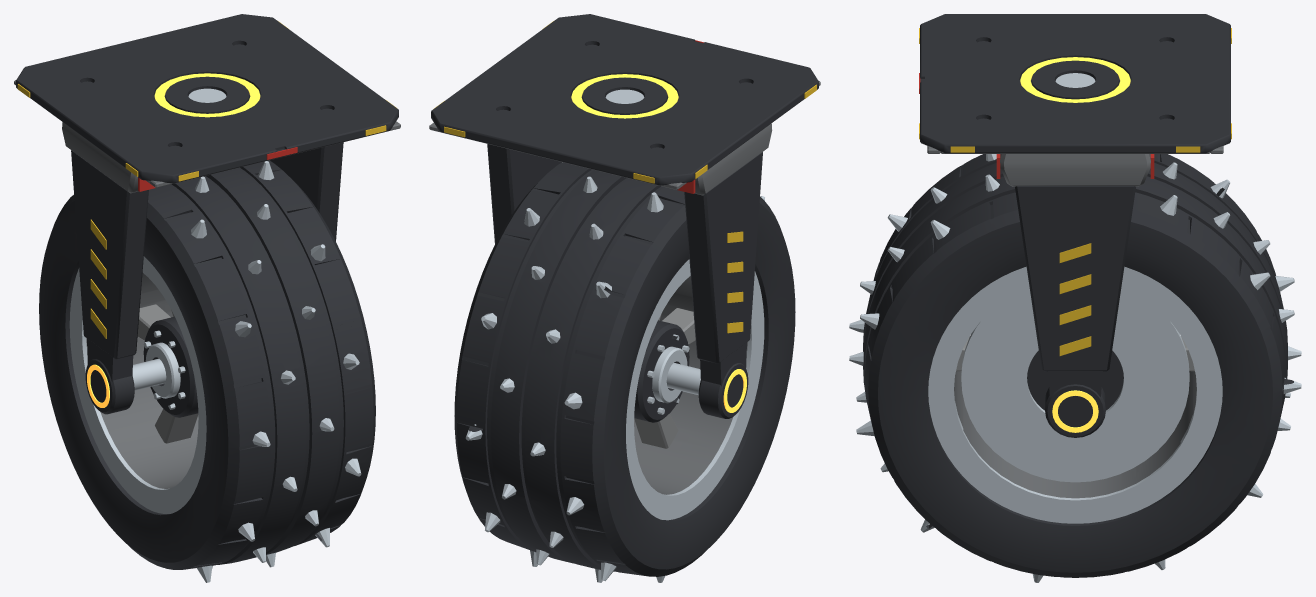
File: R4M_WheelM_Fork_Spiked.glb
3 views of the same model, side by side, from view 1: azimuth 30°, elevation 25°; view 2: azimuth 150°, elevation 25°; view 3: azimuth 270°, elevation 25° (orthographic). The views are drawn at different scales.
Visible parts, largest first — view 1: R4M_WheelM_Fork_Spiked_Rotor, R4M_WheelM_Fork_Spiked_Mount; view 2: R4M_WheelM_Fork_Spiked_Rotor, R4M_WheelM_Fork_Spiked_Mount; view 3: R4M_WheelM_Fork_Spiked_Rotor, R4M_WheelM_Fork_Spiked_Mount.
Boxes of the visible parts, left/top/right/bottom form: R4M_WheelM_Fork_Spiked_Rotor: left=39, top=160, right=375, bottom=582; R4M_WheelM_Fork_Spiked_Mount: left=14, top=14, right=400, bottom=414; R4M_WheelM_Fork_Spiked_Rotor: left=454, top=162, right=795, bottom=582; R4M_WheelM_Fork_Spiked_Mount: left=429, top=14, right=820, bottom=418; R4M_WheelM_Fork_Spiked_Rotor: left=849, top=154, right=1301, bottom=582; R4M_WheelM_Fork_Spiked_Mount: left=919, top=14, right=1231, bottom=437.
Bounding box in the file's own units: 0.5126 × 0.8681 × 0.7399.
